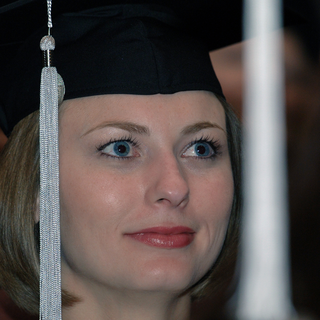eye: (92, 135, 141, 164), (179, 135, 224, 164)
